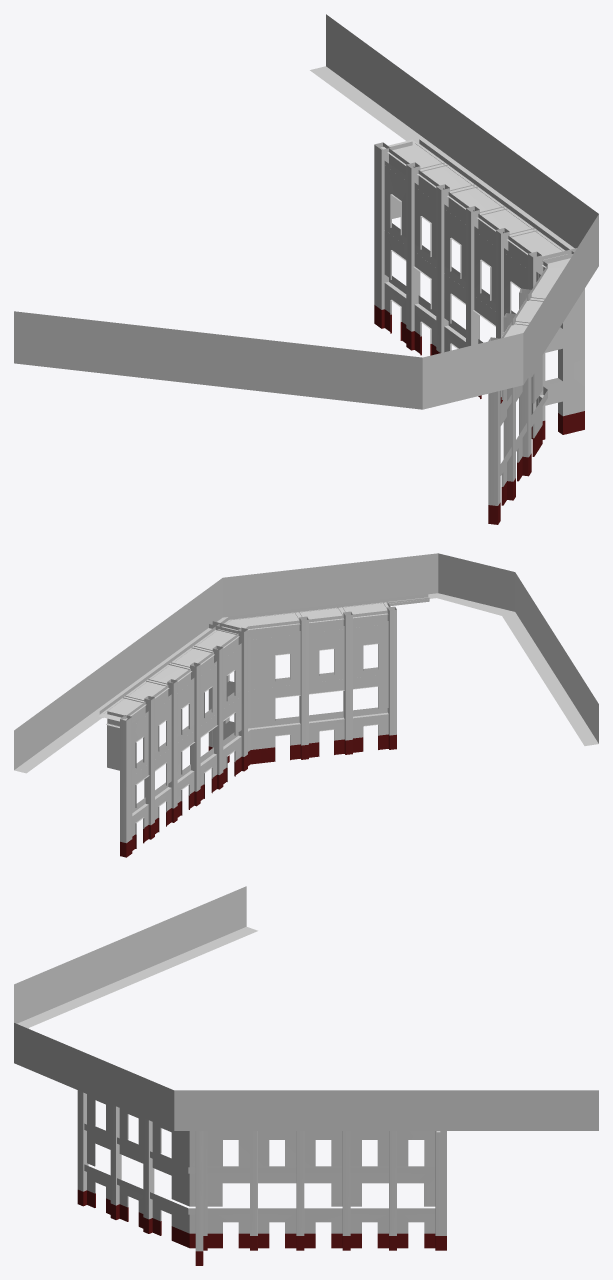
The model's file is SM_H_Building_Tide_Jail_C_05_ATLAS.fbx.
3 views of the same model, one above another, from view 1: azimuth 30°, elevation 25°; view 2: azimuth 150°, elevation 25°; view 3: azimuth 270°, elevation 25° (orthographic). The views are drawn at different scales.
Parts seen in each view (by area): view 1: SM_H_Building_Tide_Jail_C_05_ATLAS; view 2: SM_H_Building_Tide_Jail_C_05_ATLAS; view 3: SM_H_Building_Tide_Jail_C_05_ATLAS.
Part boxes in pixels (bbox=[...]): SM_H_Building_Tide_Jail_C_05_ATLAS: bbox=[14, 14, 598, 524]; SM_H_Building_Tide_Jail_C_05_ATLAS: bbox=[14, 553, 598, 857]; SM_H_Building_Tide_Jail_C_05_ATLAS: bbox=[14, 886, 598, 1265].
Size of the model in its own units: 5670 by 6860 by 2272.
